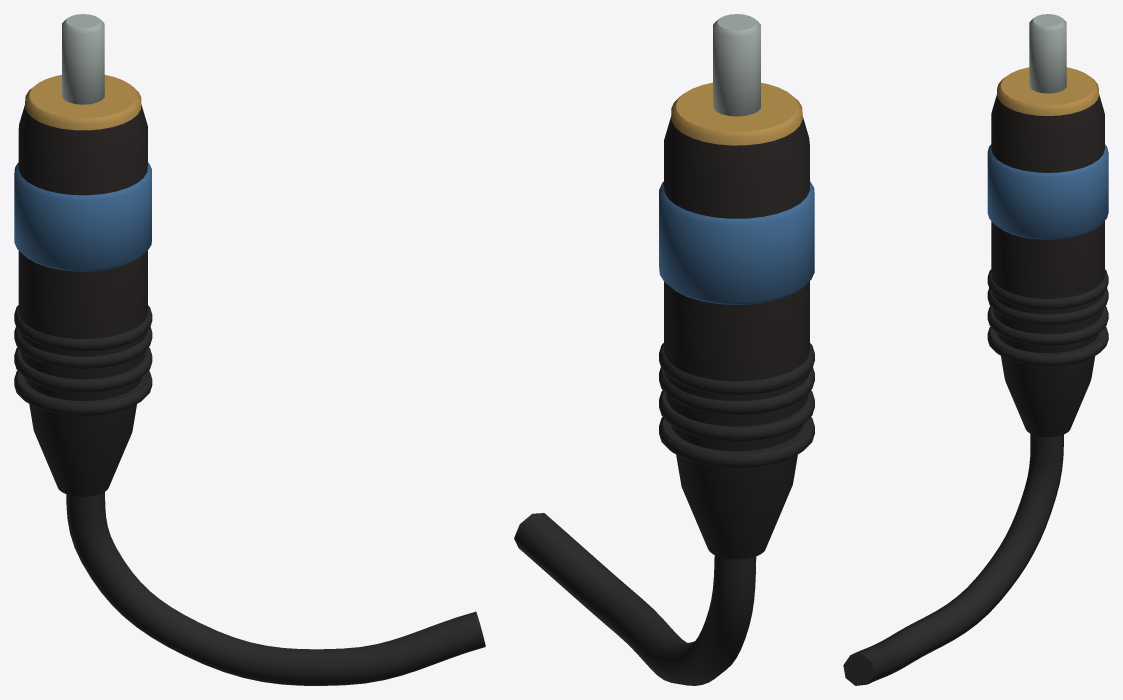
File: ServicePlug_Security.fbx
3 renders of one model, left to right at view 1: azimuth 30°, elevation 25°; view 2: azimuth 150°, elevation 25°; view 3: azimuth 270°, elevation 25°, orthographic. The views are drawn at different scales.
Visible parts, largest first — view 1: Cable grip.001, Coiled lead.001, Crew identification ring.001, Brass collar.001, Contact tip.001, Grip rib.004, Grip rib.005, Grip rib.007, Grip rib.006; view 2: Cable grip.001, Coiled lead.001, Crew identification ring.001, Brass collar.001, Contact tip.001, Grip rib.004, Grip rib.005, Grip rib.007, Grip rib.006; view 3: Cable grip.001, Coiled lead.001, Crew identification ring.001, Brass collar.001, Contact tip.001, Grip rib.004, Grip rib.005, Grip rib.007, Grip rib.006.
Part boxes in pixels (x1,y1,x2,y2): Cable grip.001: (18, 104, 147, 496); Coiled lead.001: (66, 492, 485, 685); Crew identification ring.001: (14, 162, 151, 271); Brass collar.001: (25, 75, 141, 130); Contact tip.001: (62, 14, 104, 104); Grip rib.004: (14, 370, 152, 415); Grip rib.005: (14, 347, 152, 392); Grip rib.007: (14, 305, 152, 351); Grip rib.006: (14, 327, 152, 368); Cable grip.001: (664, 116, 809, 559); Coiled lead.001: (514, 513, 756, 685); Crew identification ring.001: (659, 181, 814, 304); Brass collar.001: (671, 82, 802, 145); Contact tip.001: (713, 14, 760, 116); Grip rib.004: (659, 417, 814, 467); Grip rib.005: (659, 390, 814, 441); Grip rib.007: (659, 343, 814, 395); Grip rib.006: (659, 367, 814, 414); Cable grip.001: (991, 94, 1104, 437); Coiled lead.001: (843, 434, 1063, 685); Crew identification ring.001: (987, 144, 1108, 239); Brass collar.001: (997, 67, 1098, 115); Contact tip.001: (1029, 14, 1066, 93); Grip rib.004: (987, 326, 1108, 366); Grip rib.005: (987, 306, 1108, 345); Grip rib.007: (987, 269, 1108, 309); Grip rib.006: (987, 288, 1108, 325).
Bounding box in the file's own units: 0.1906 × 0.3313 × 0.1402.
